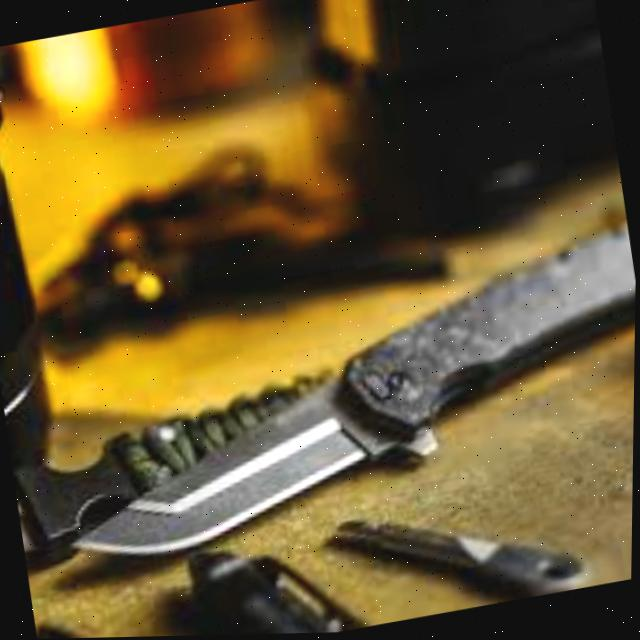Knife: (33, 213, 637, 571)
